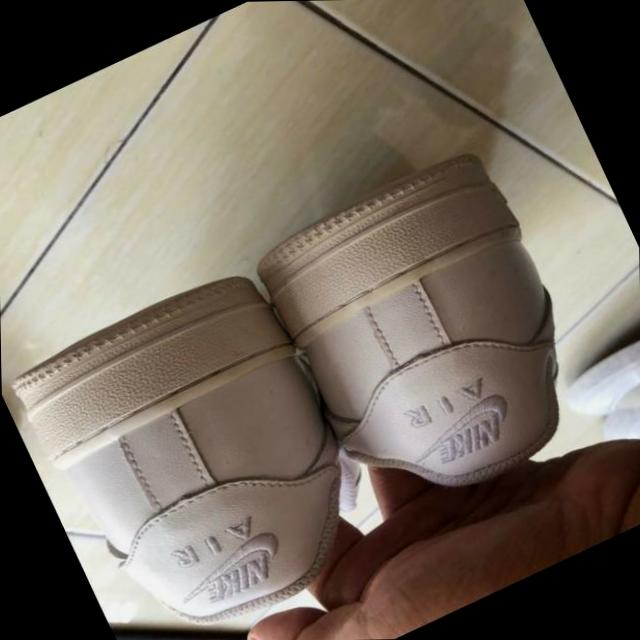nike_fake_airforce: (0, 232, 466, 640), (237, 142, 631, 544)
